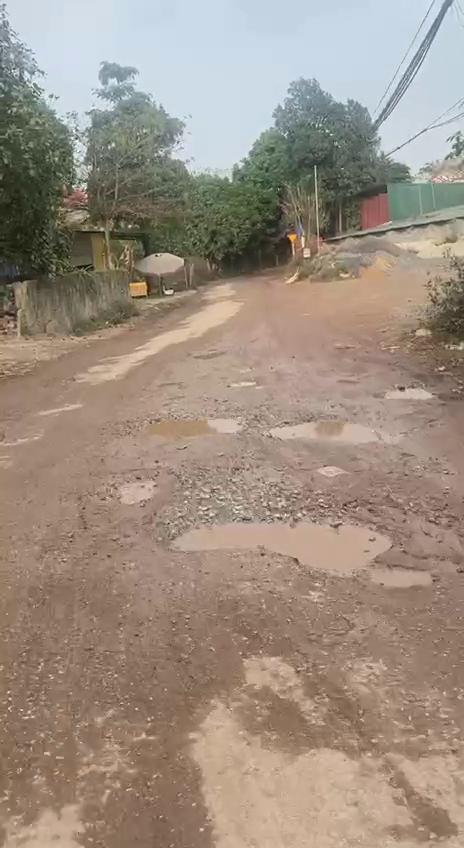pothole: (158, 502, 463, 590), (69, 470, 186, 544), (260, 413, 406, 453), (132, 410, 256, 442)
